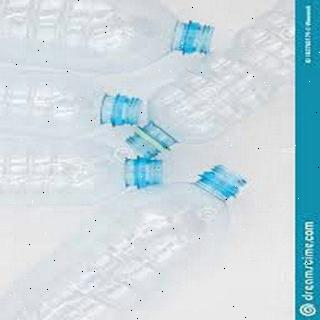Plastic-bottle: (1, 160, 262, 320), (124, 1, 295, 165), (1, 1, 218, 80), (1, 68, 147, 143), (1, 139, 163, 201)
